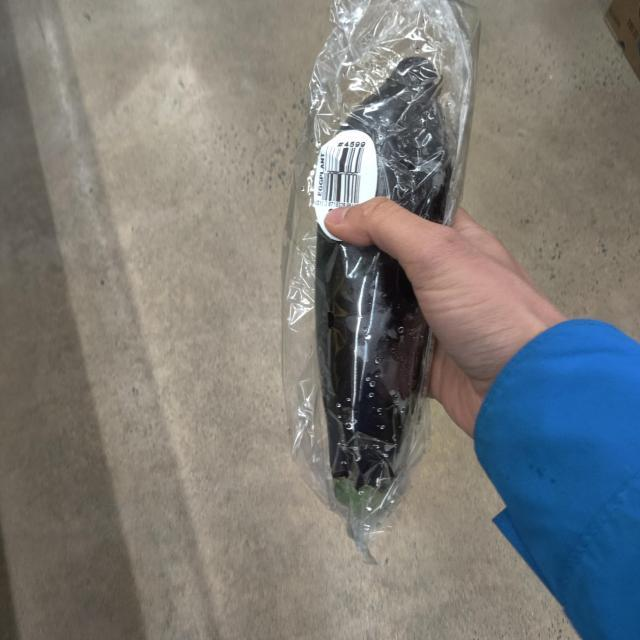Egg Plant: (293, 32, 465, 526)
